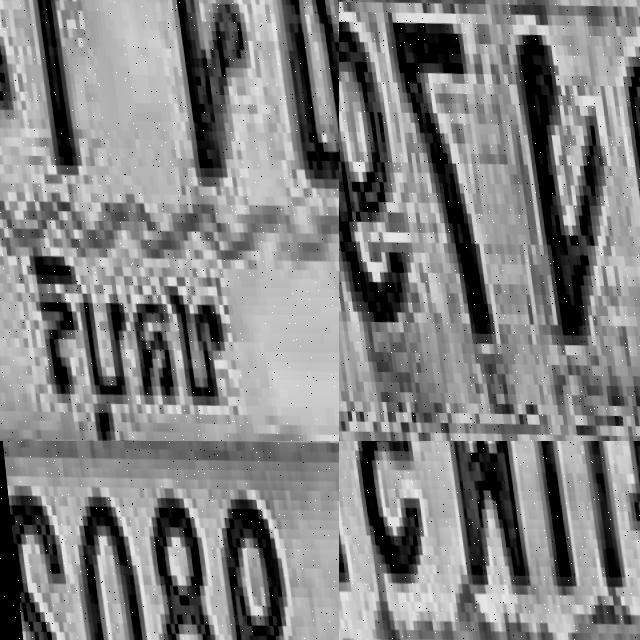license-plate: (0, 0, 339, 441), (339, 0, 640, 441), (0, 441, 339, 640), (339, 441, 640, 640)
